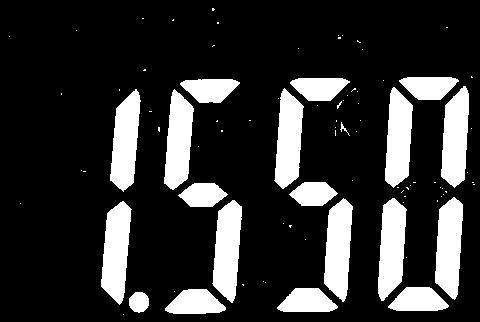0: (374, 71, 471, 315)
1: (101, 87, 143, 307)
5: (158, 75, 252, 316), (271, 72, 358, 314)
dot: (128, 290, 151, 314)
